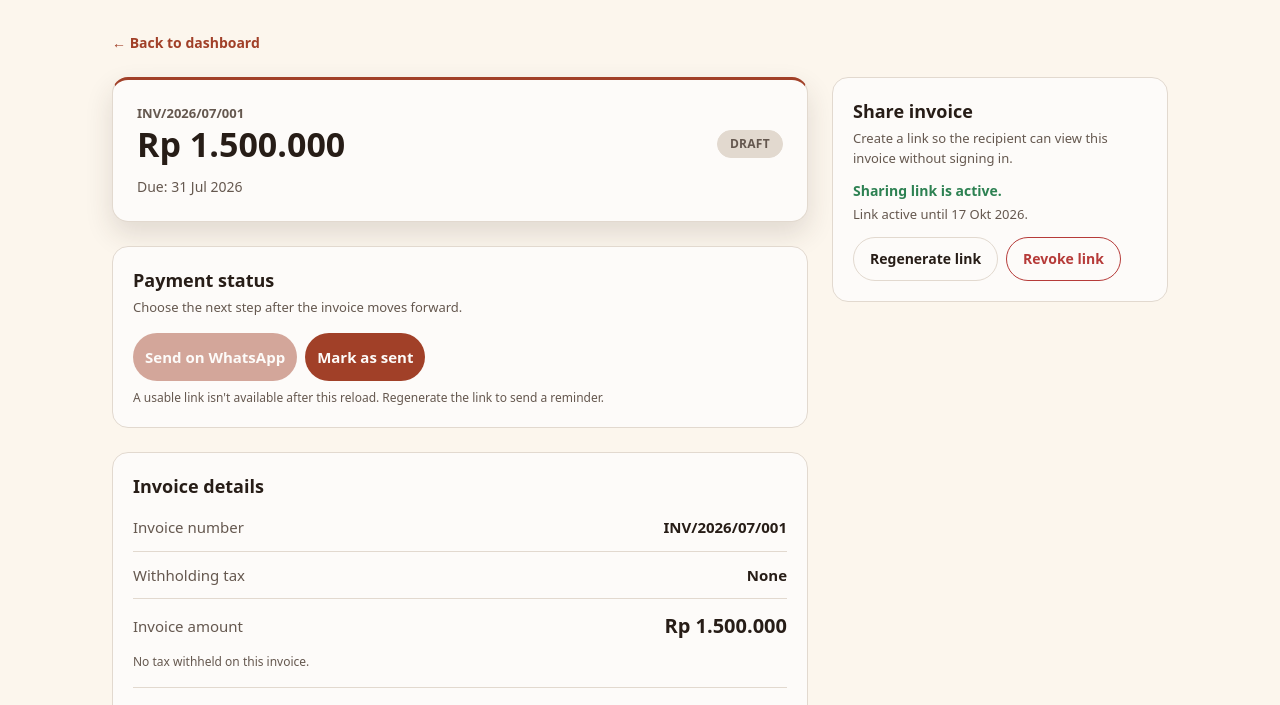
InvoiceDetailClient › keeps invoice details, sharing states, confirmations, and errors fully English
Check: the text "Sharing link is active." is shown, box [853,181,1002,200]
Check: the text "Withholding tax" is shown, box [133,564,245,586]
Click the button "Regenerate link" at (926, 258), box [853,236,998,280]
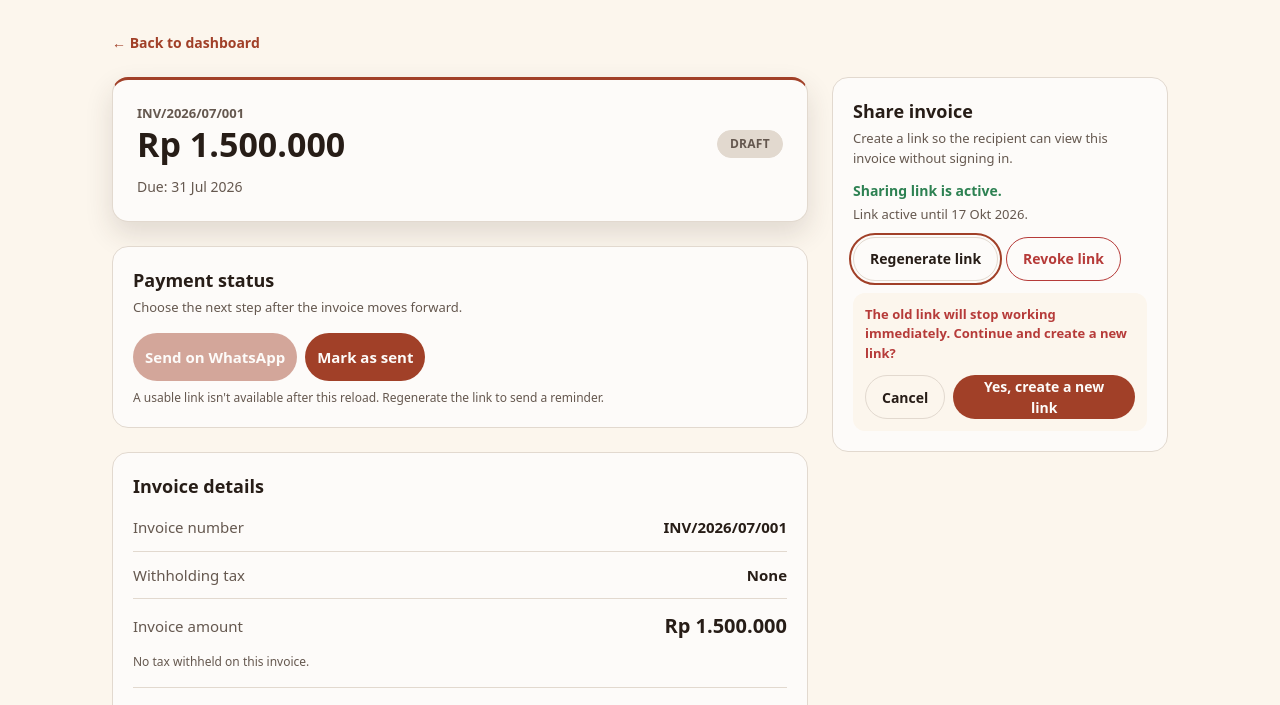
Check: the text "The old link will stop working immediately. Continue and create a new link?" is shown, box [865,304,1135,363]
Check: the button "Cancel" is shown, box [865,375,945,419]
Click the button "Yes, create a new link" at (1044, 397), box [953,375,1135,419]
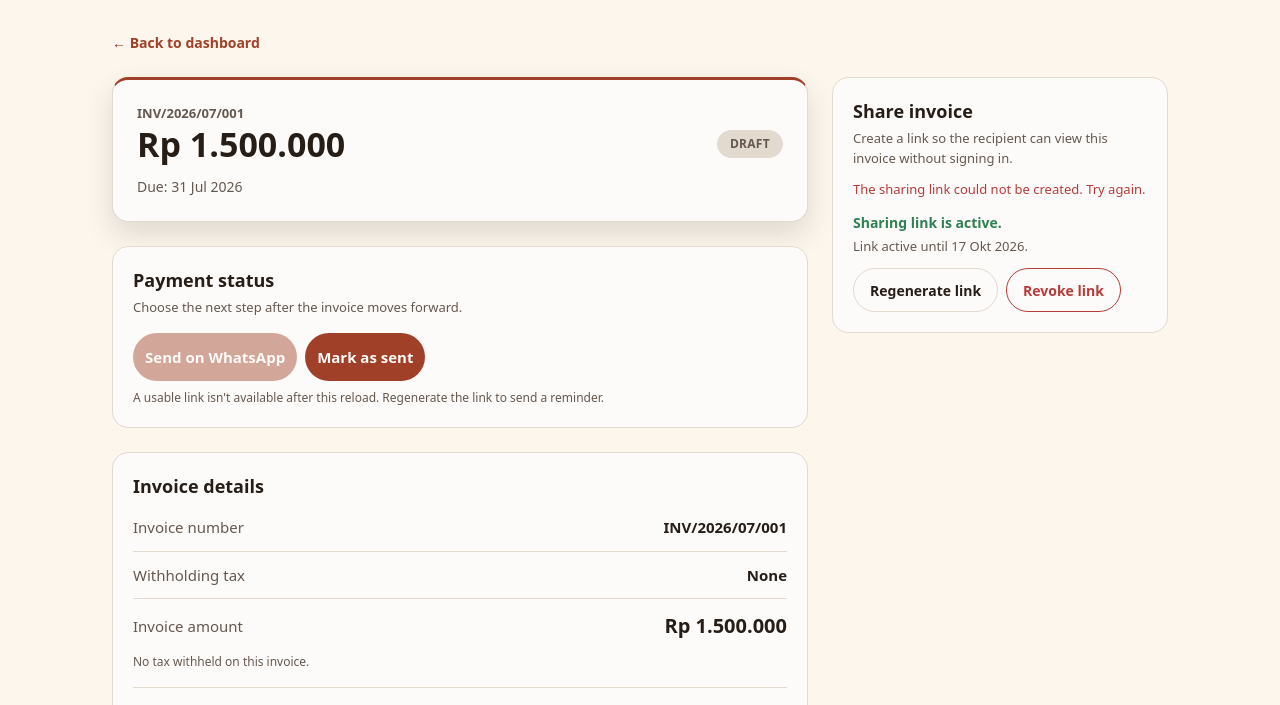
Check: the message reads "The sharing link could not be created. Try again.", box [853,180,1146,198]
